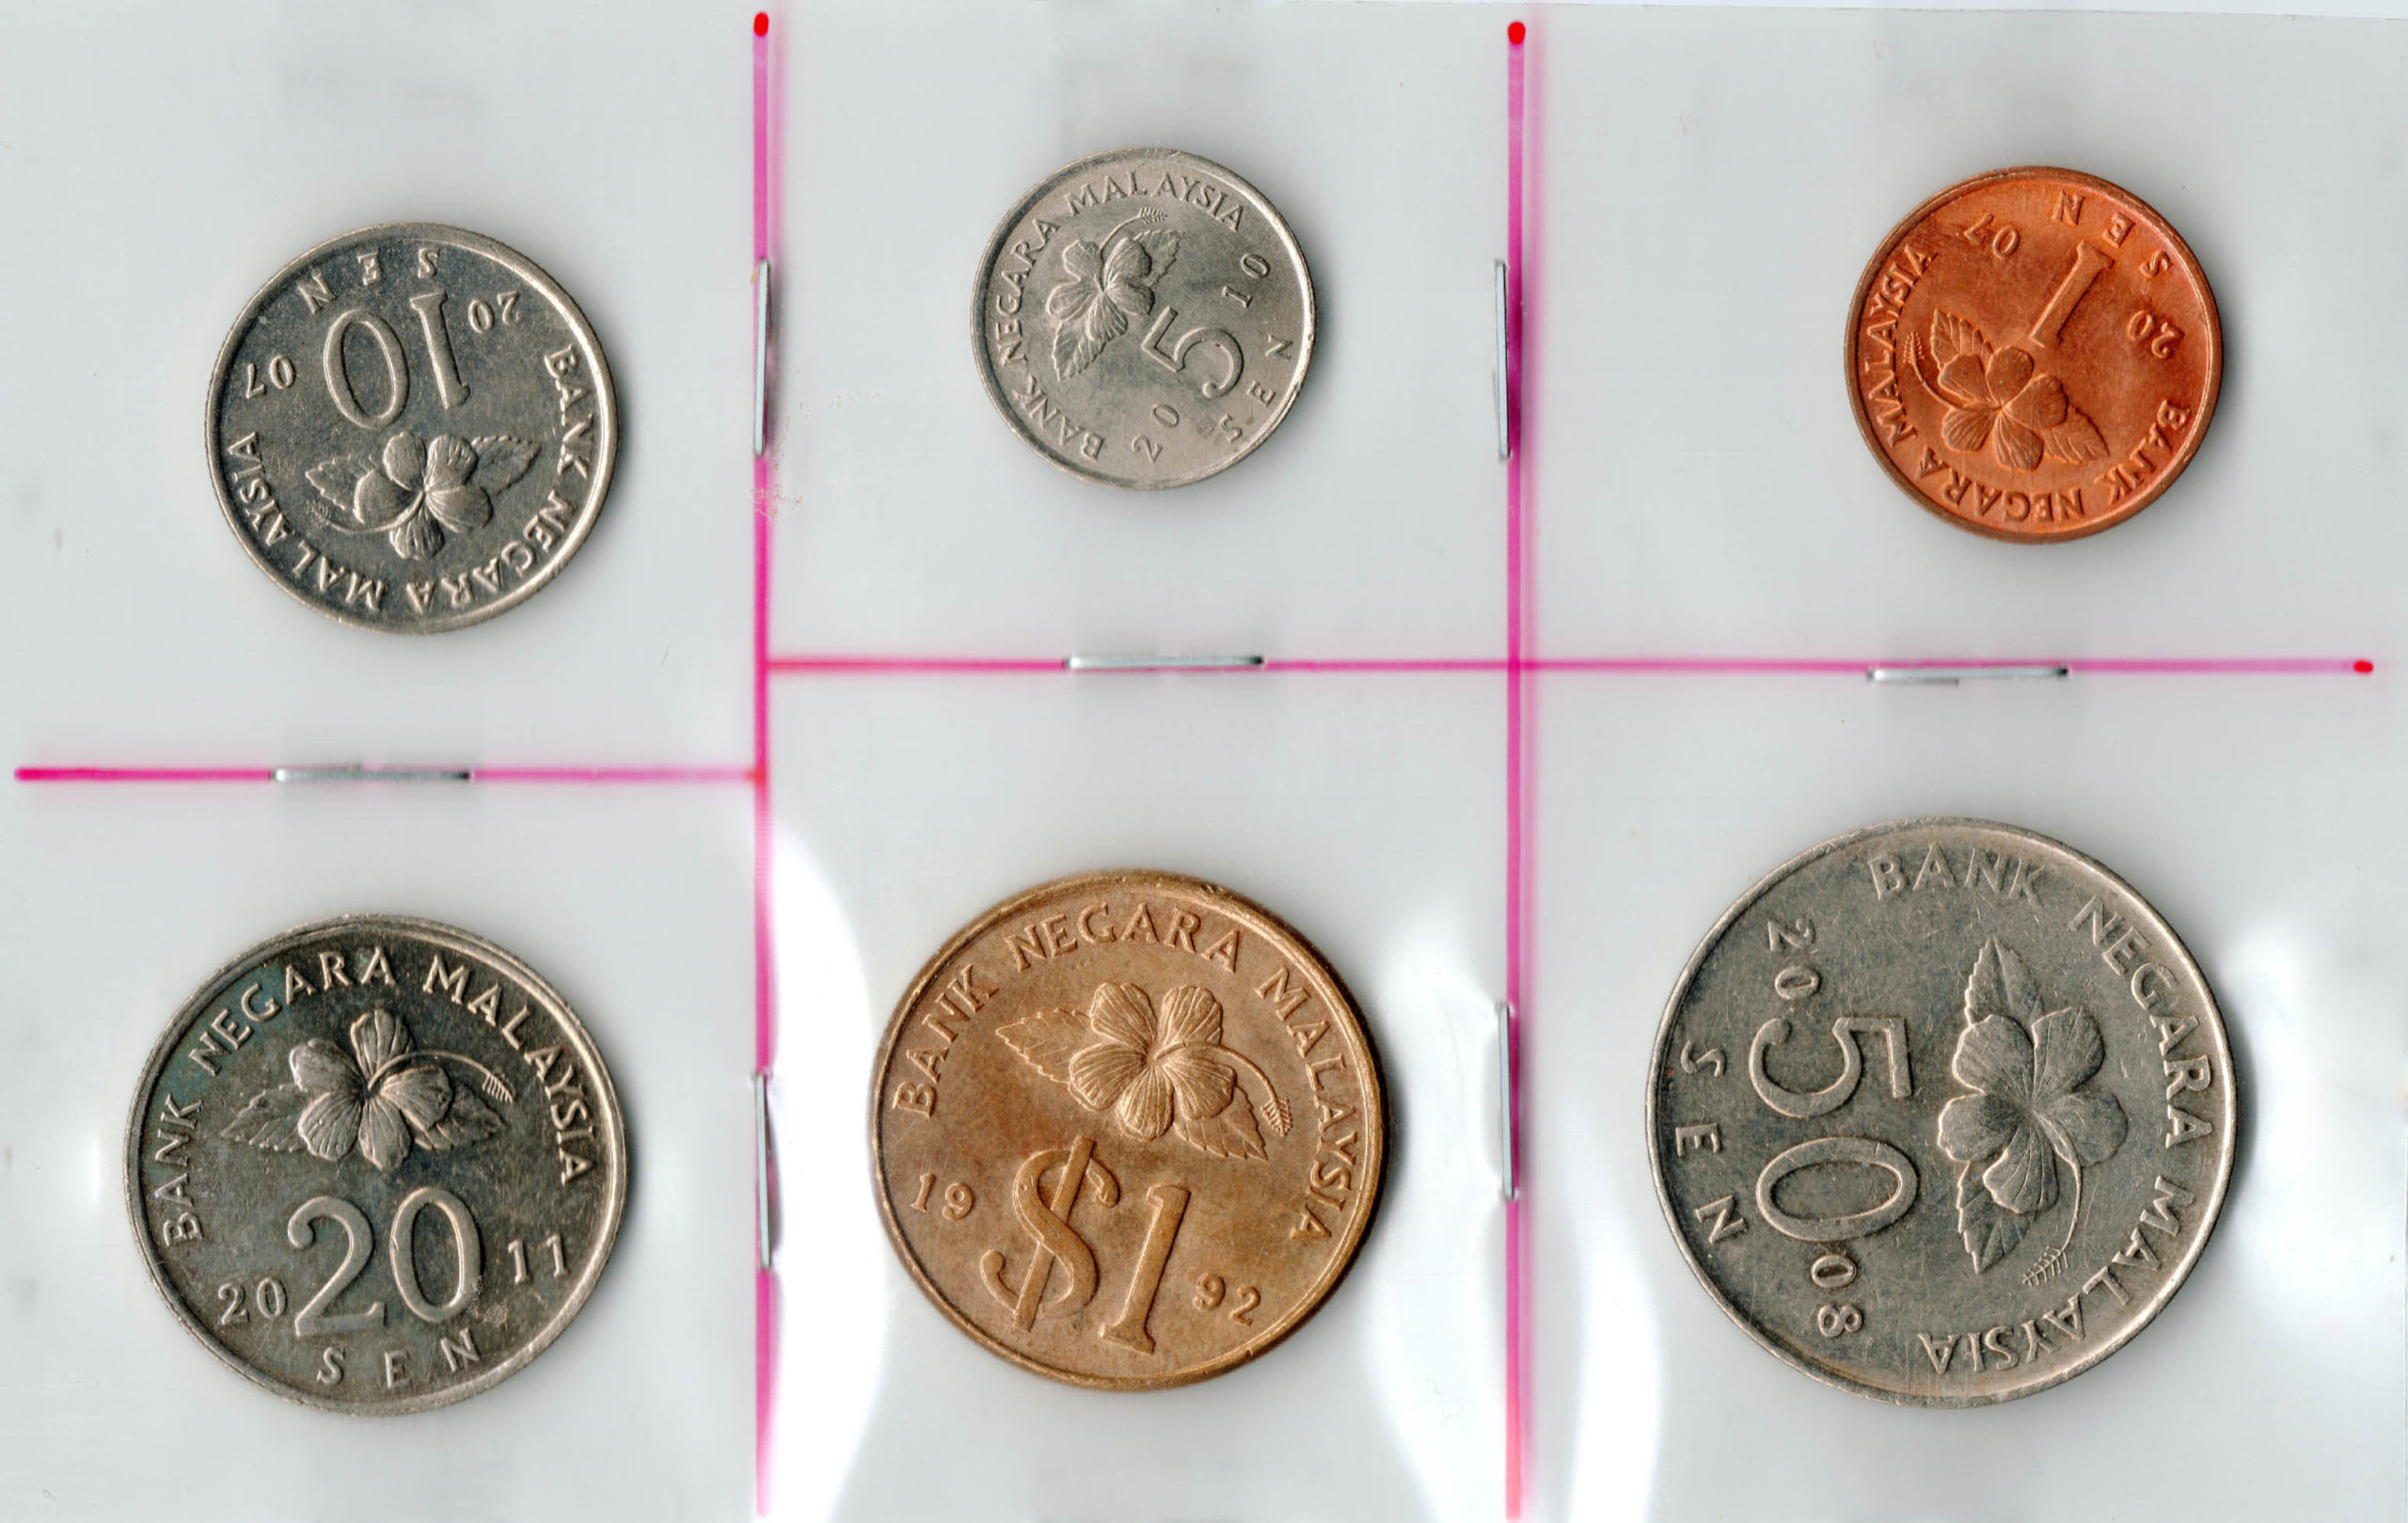10: (200, 212, 633, 642)
1c: (1843, 158, 2238, 546)
1r: (858, 865, 1396, 1398)
20: (116, 909, 638, 1419)
5: (966, 142, 1326, 495)
50: (1643, 812, 2257, 1411)
